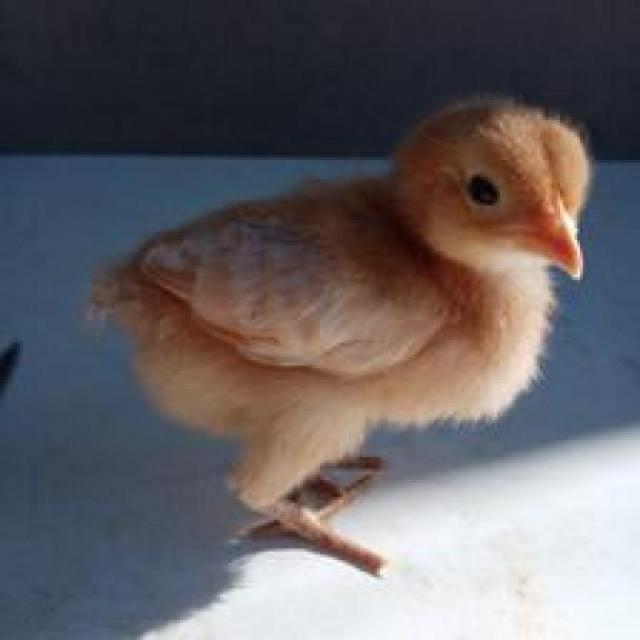Chicken: (74, 86, 598, 589)
